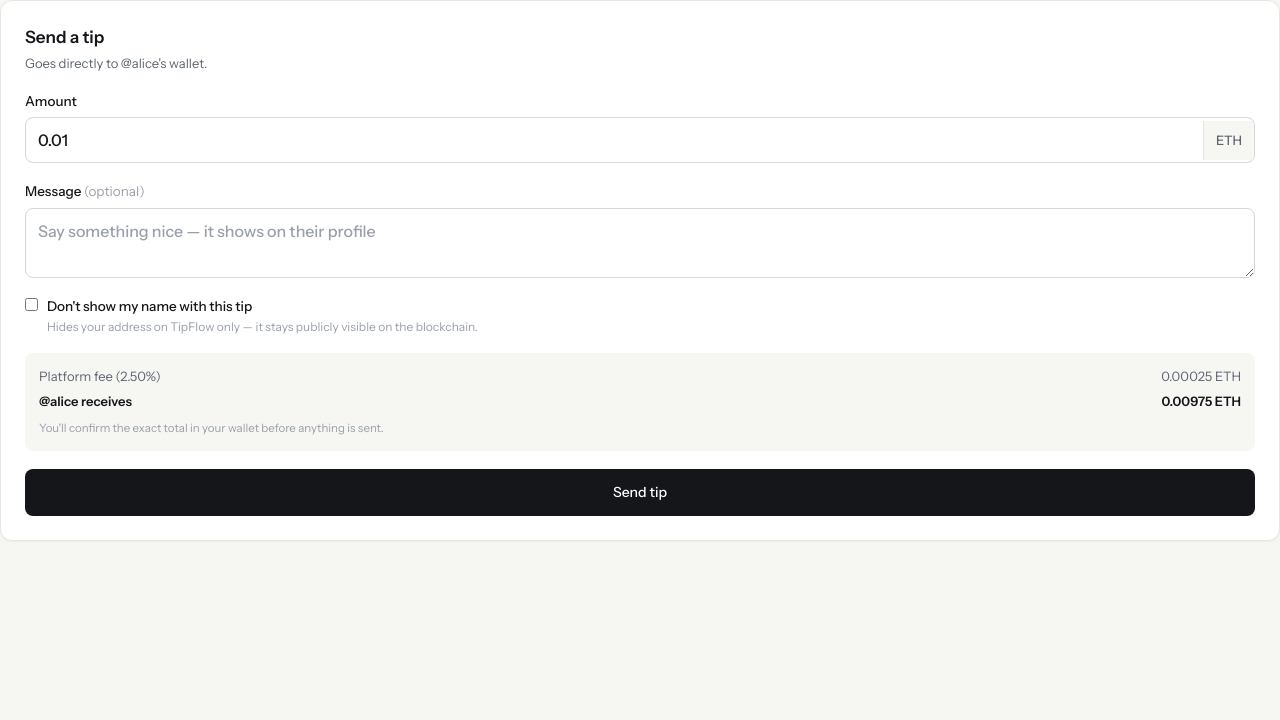
Test: TipForm › rejects an invalid amount
Replace the text in the field named "Amount in ETH" with "abc" at x=614, y=140, box [26,118,1203,162]
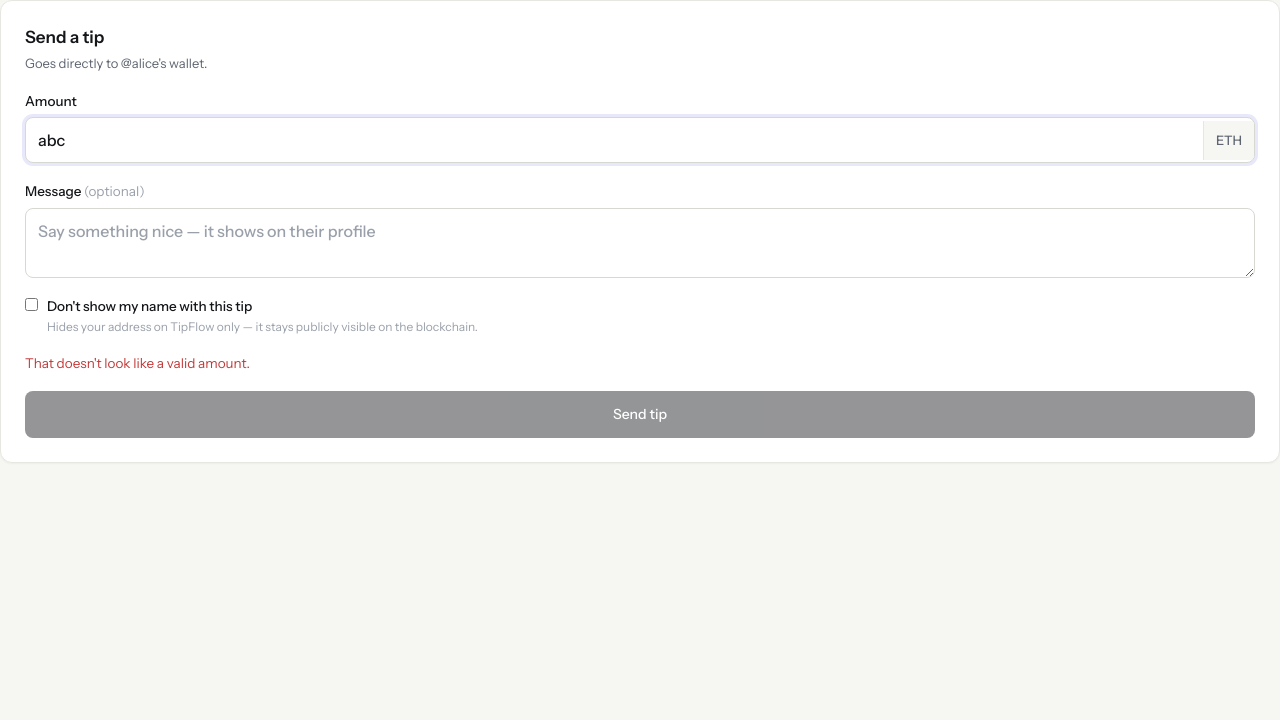
Result: the button "Send tip" is disabled at [25,391,1255,438]
Result: the message reads "That doesn't look like a valid amount." at [25,355,250,371]
